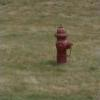a fire hydrant: (55, 22, 74, 64)
